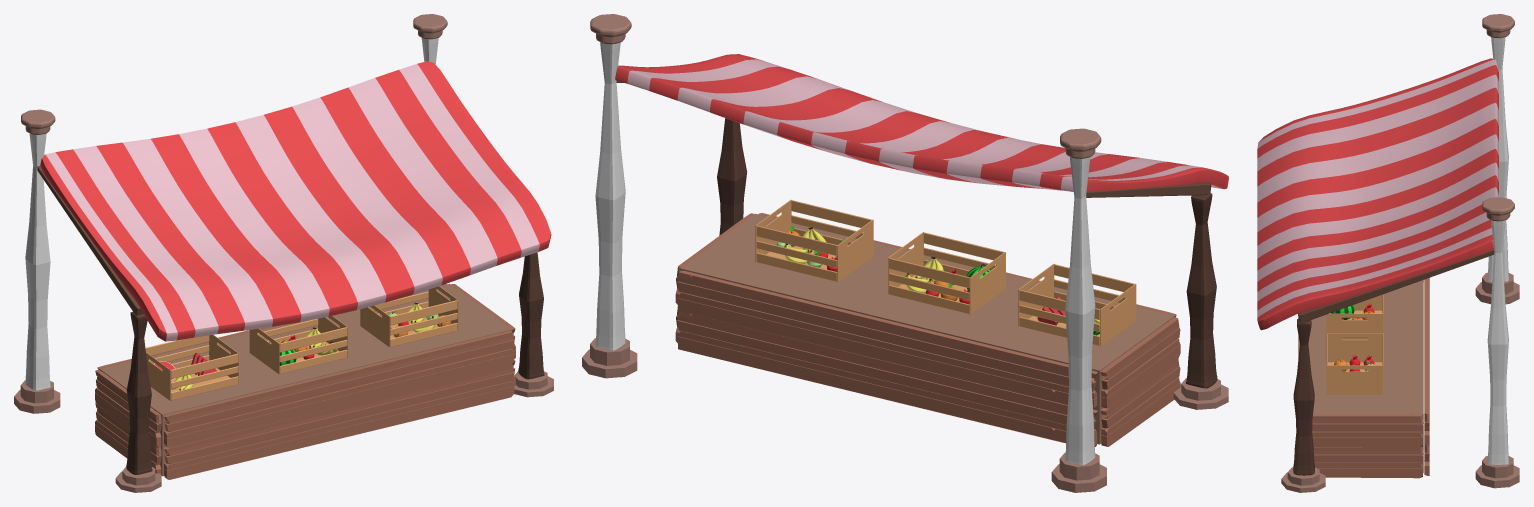
File: MarketGame.fbx
The picture shows the model from 3 angles, left to right: view 1: azimuth 30°, elevation 25°; view 2: azimuth 150°, elevation 25°; view 3: azimuth 270°, elevation 25°; orthographic projection. The views are drawn at different scales.
Parts seen in each view (by area): view 1: Plane, Cube.015, Cube.002, Cube.017, Cube.016, Cube.013, Cube.003, Cube.001, Cube.014, Cube.009, Cube.022, Cube.026 (+7 smaller); view 2: Plane, Cube.015, Cube.001, Cube.006, Cube.005, Cube.004, Cube.008, Cube.013, Cube.014, Cube.026, Cube.022, Cylinder.003 (+7 smaller); view 3: Plane, Cube.015, Cube.019, Cube.001, Cube.028, Cube.013, Cylinder.003, Cube.020, Cube.024, Cylinder.001, Cube.006, Cylinder.007.
Part boxes in pixels (x1,y1,x2,y2): Plane: (40, 61, 551, 341); Cube.015: (99, 283, 512, 476); Cube.002: (163, 330, 514, 431); Cube.017: (163, 364, 514, 464); Cube.016: (164, 349, 514, 447); Cube.013: (126, 252, 544, 474); Cube.003: (164, 381, 514, 479); Cube.001: (25, 38, 438, 390); Cube.014: (95, 369, 161, 474); Cube.009: (145, 335, 238, 400); Cube.022: (258, 318, 347, 373); Cube.026: (368, 291, 457, 346); Plane: (615, 54, 1228, 191); Cube.015: (680, 213, 1174, 444); Cube.001: (595, 42, 1095, 465); Cube.006: (677, 270, 1097, 391); Cube.005: (677, 311, 1097, 427); Cube.004: (678, 292, 1097, 409); Cube.008: (678, 331, 1097, 446); Cube.013: (717, 118, 1217, 388); Cube.014: (1100, 317, 1180, 446); Cube.026: (756, 200, 871, 281); Cube.022: (889, 232, 1004, 313); Cylinder.003: (582, 338, 1106, 492); Plane: (1257, 58, 1498, 330); Cube.015: (1308, 280, 1423, 473); Cube.019: (1312, 414, 1423, 478); Cube.001: (1487, 37, 1508, 464); Cube.028: (1326, 333, 1383, 394); Cube.013: (1293, 318, 1314, 475); Cylinder.003: (1475, 272, 1519, 488); Cube.020: (1298, 249, 1494, 322); Cube.024: (1326, 294, 1383, 339); Cylinder.001: (1482, 14, 1514, 221); Cube.006: (1424, 278, 1429, 429); Cylinder.007: (1281, 467, 1325, 492).
Bounding box in the file's own units: 1242 × 808 × 682.
